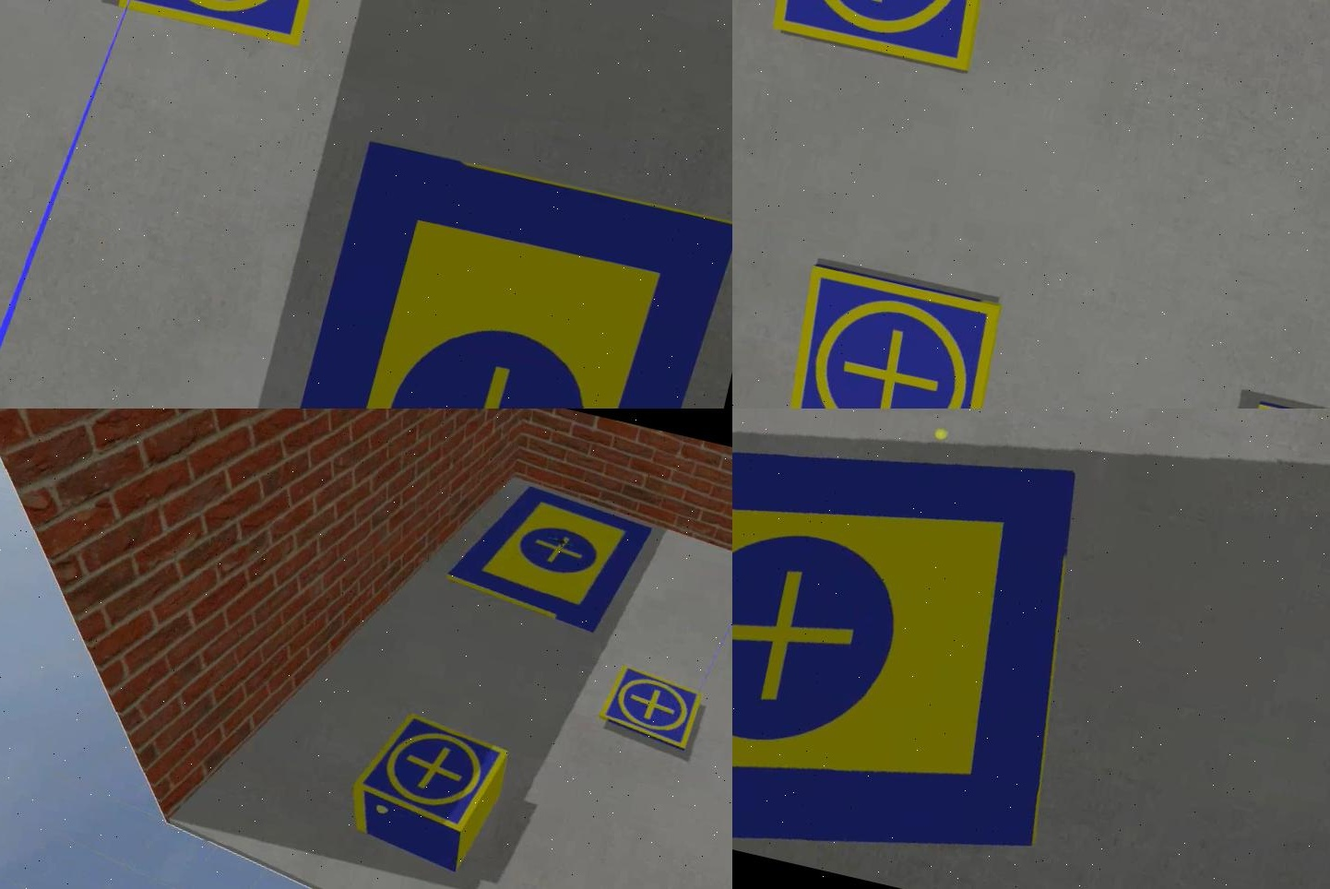large_base: (731, 409, 1122, 889), (283, 134, 731, 409), (438, 472, 651, 641)
small_base: (769, 260, 1008, 409), (344, 703, 511, 839), (747, 1, 1015, 79), (106, 1, 350, 54), (596, 668, 707, 757)
